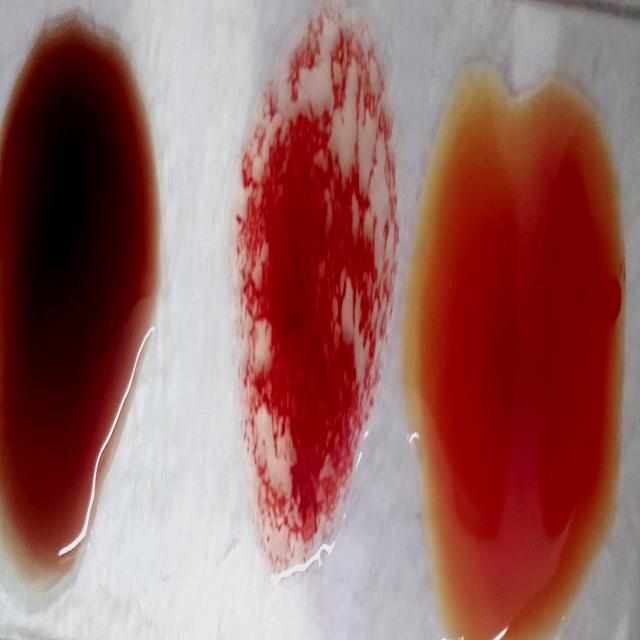D: (235, 26, 388, 586)
